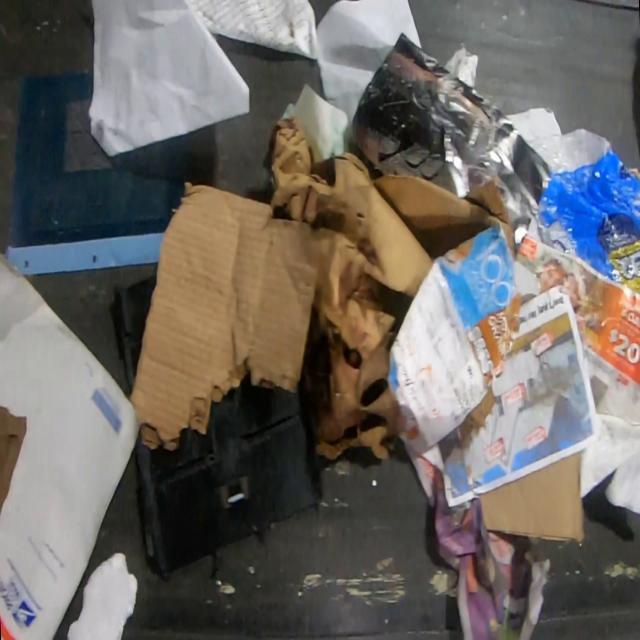cardboard: (266, 115, 514, 463), (0, 252, 142, 640), (129, 180, 320, 451), (134, 372, 323, 582), (386, 222, 522, 457), (478, 449, 586, 548), (114, 275, 156, 393), (0, 403, 26, 517)
soft_plastic: (4, 68, 192, 278), (522, 125, 640, 295)
